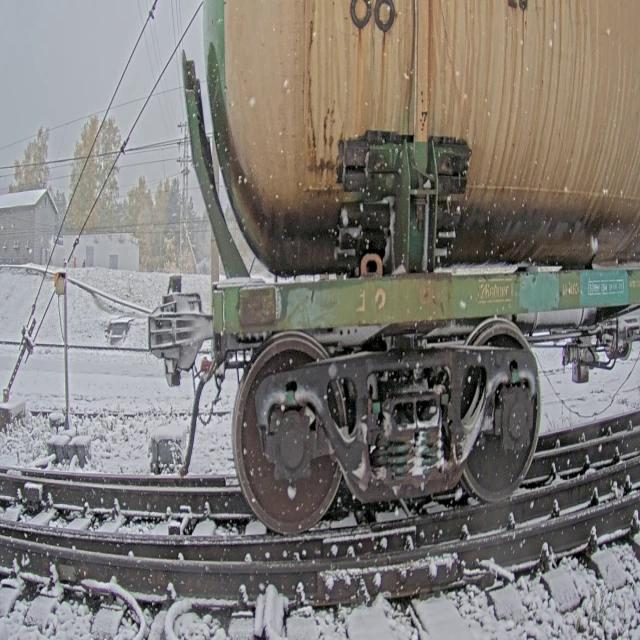tank: (144, 0, 640, 544)
